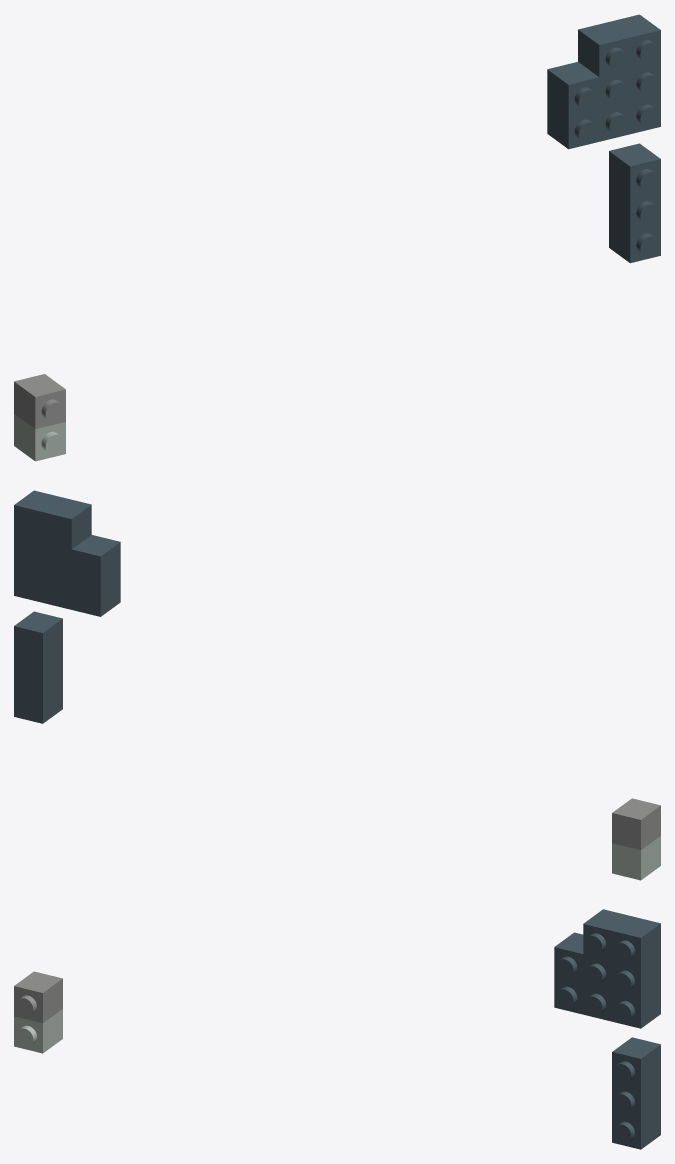
The model's file is current.glb.
The picture shows the model from 3 angles, top to bottom: view 1: azimuth 30°, elevation 25°; view 2: azimuth 150°, elevation 25°; view 3: azimuth 330°, elevation 25°; orthographic projection. The views are drawn at different scales.
Visible parts, largest first — view 1: world; view 2: world; view 3: world.
Part boxes in pixels (left/top/right/bottom): world: left=14, top=14, right=660, bottom=461; world: left=14, top=490, right=660, bottom=880; world: left=14, top=909, right=660, bottom=1149.
Size of the model in its own units: 168 by 64 by 21.
